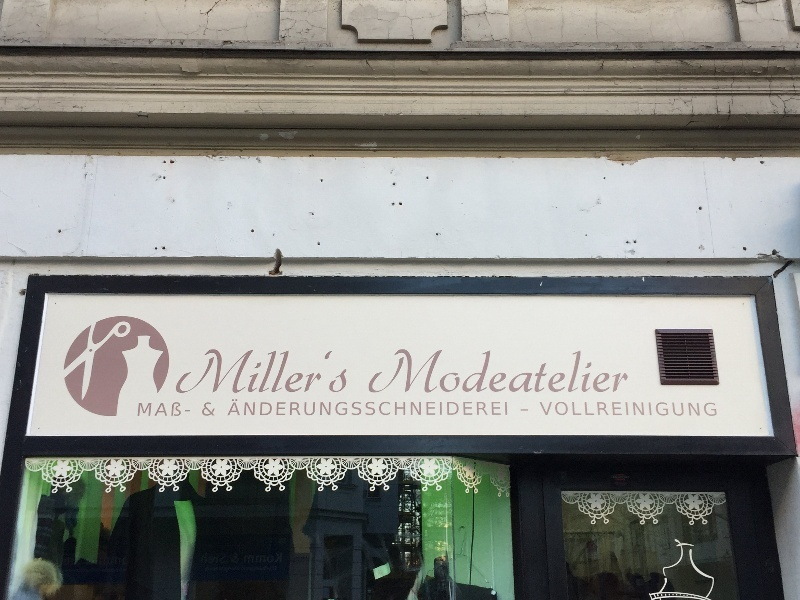text: (209, 349, 224, 395), (225, 349, 240, 395), (241, 349, 256, 395), (257, 349, 272, 395), (273, 349, 288, 395), (289, 349, 304, 395), (305, 349, 320, 395), (321, 349, 336, 395), (401, 349, 416, 395), (417, 349, 432, 395), (433, 349, 448, 395), (449, 349, 464, 395), (465, 349, 480, 395), (481, 349, 496, 395), (497, 349, 512, 395), (513, 349, 528, 395), (529, 349, 544, 395), (545, 349, 560, 395), (561, 349, 576, 395), (577, 349, 592, 395), (593, 349, 608, 395), (609, 349, 624, 395), (337, 349, 350, 395), (388, 349, 400, 395), (625, 349, 635, 395), (199, 349, 208, 395), (241, 401, 256, 420), (257, 401, 272, 420), (273, 401, 288, 420), (289, 401, 304, 420), (305, 401, 320, 420), (321, 401, 336, 420), (337, 401, 352, 420), (353, 401, 368, 420), (369, 401, 384, 420), (385, 401, 400, 420), (401, 401, 416, 420), (417, 401, 432, 420), (433, 401, 448, 420), (449, 401, 464, 420), (465, 401, 480, 420), (481, 401, 496, 420), (497, 401, 512, 420), (513, 401, 528, 420), (529, 401, 544, 420), (545, 401, 560, 420), (561, 401, 576, 420), (577, 401, 592, 420), (593, 401, 608, 420), (609, 401, 624, 420), (625, 401, 640, 420), (641, 401, 656, 420), (657, 401, 672, 420), (673, 401, 688, 420), (689, 401, 704, 420), (705, 401, 719, 420), (145, 402, 160, 418), (161, 402, 176, 418), (177, 402, 192, 418), (228, 401, 240, 420), (209, 402, 216, 418), (139, 402, 144, 418), (203, 402, 208, 418)
